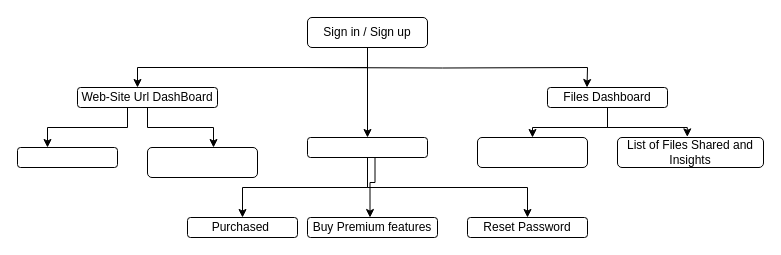
Some shapes in this 781 by 255 pixel diagram are drawn without their labels. The centre of each missing label's shape, as x and y in pixels:
"File Sharing by Uploading File" belongs at point (532, 152).
"Profile" belongs at point (367, 147).
"Shorten Url" belongs at point (67, 157).
"Urls List with insights" belongs at point (202, 162).
